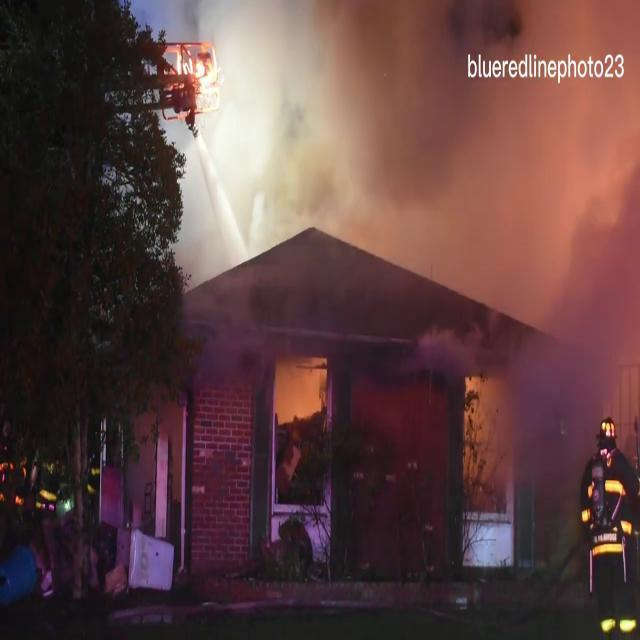Smoke: (303, 0, 640, 306)
